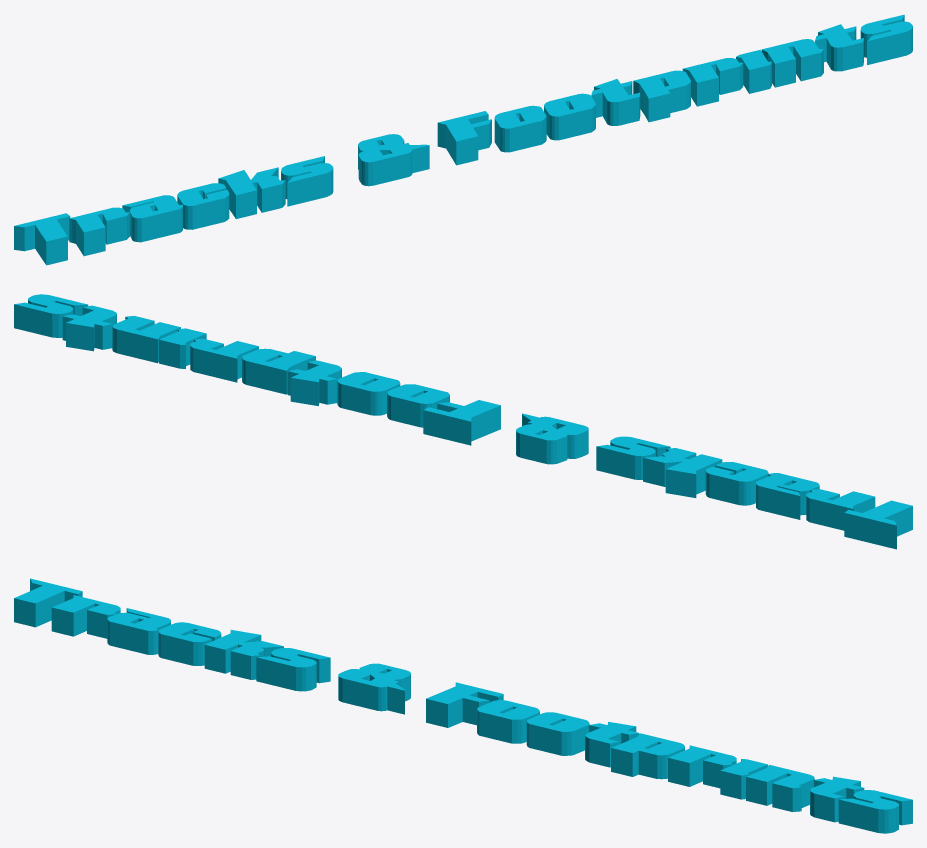
Rendered from tracks and footprints.fbx.
3 views of the same model, one above another, from view 1: azimuth 30°, elevation 25°; view 2: azimuth 150°, elevation 25°; view 3: azimuth 330°, elevation 25° (orthographic).
Parts seen in each view (by area): view 1: Plane; view 2: Plane; view 3: Plane.
Boxes of the visible parts, box(x1,y1,x2,y2) form: Plane: box(14, 14, 912, 265); Plane: box(14, 294, 912, 549); Plane: box(14, 578, 912, 833).
Size of the model in its own units: 954 by 24.58 by 52.71.
